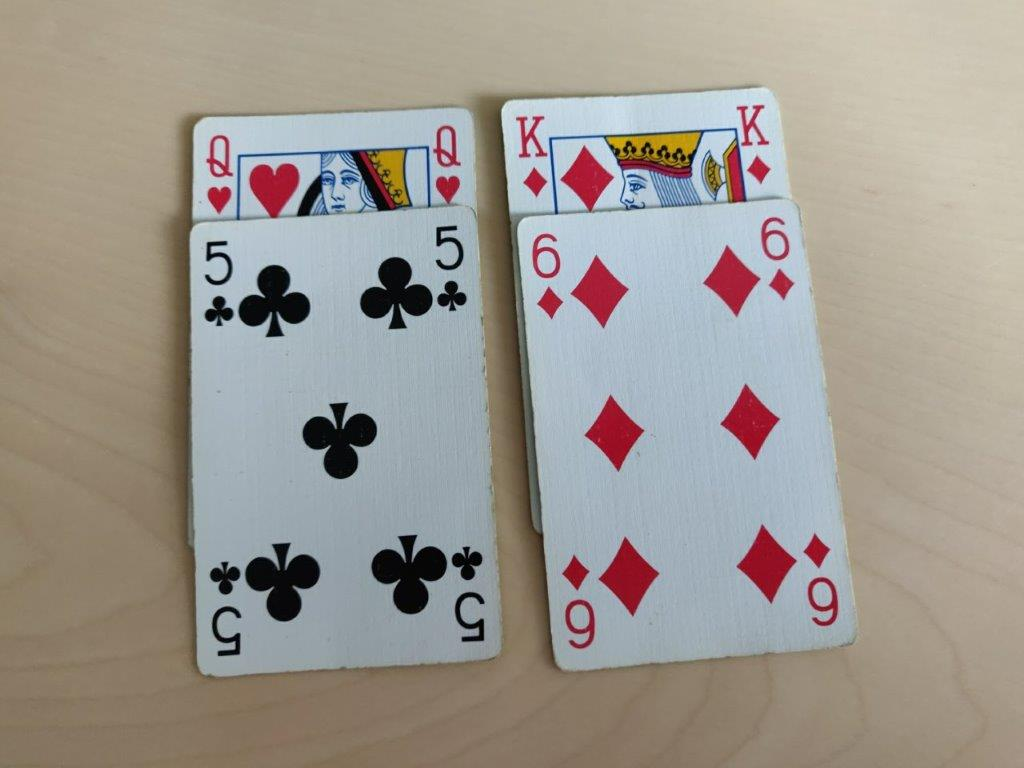5C: (195, 234, 235, 332), (430, 221, 470, 317)
6D: (527, 230, 567, 323), (759, 212, 799, 305)
KD: (510, 107, 554, 199), (730, 94, 774, 186)
QH: (201, 128, 235, 216), (429, 117, 463, 205)
